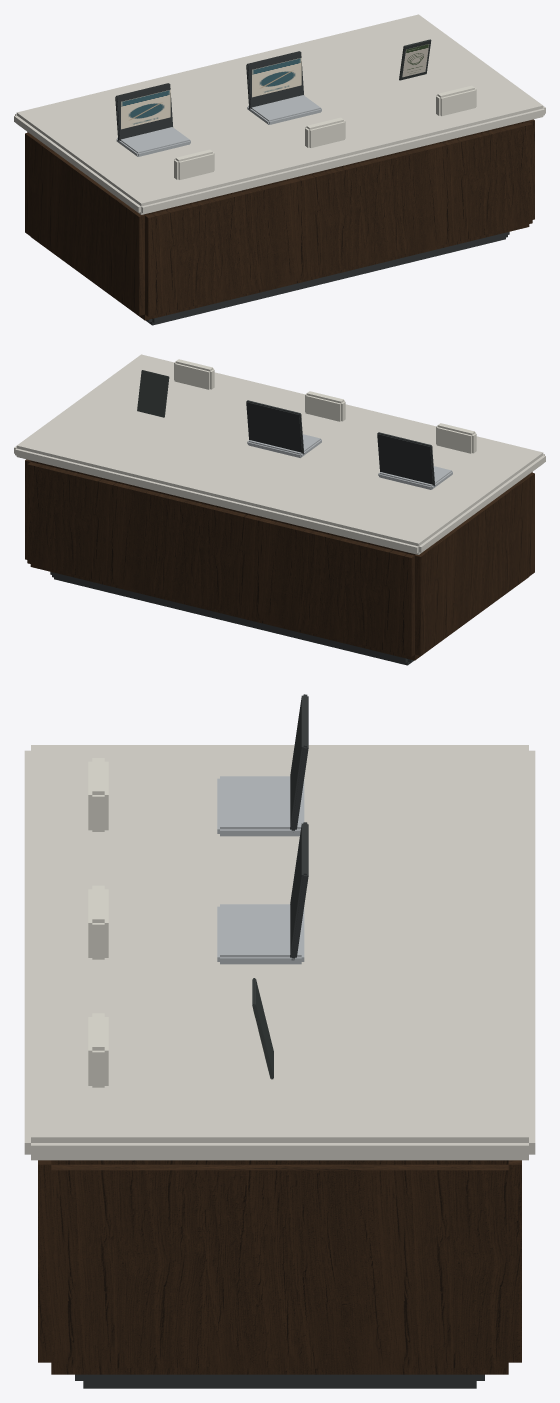
Rendered from computer_experience_v293.glb.
3 renders of one model, top to bottom at view 1: azimuth 30°, elevation 25°; view 2: azimuth 150°, elevation 25°; view 3: azimuth 270°, elevation 25°, orthographic. The views are drawn at different scales.
Visible parts, largest first — view 1: computer_experience_v293_CC0_Smoked_walnut, computer_experience_v293_Honed_solid_surface, computer_experience_v293_Paper_page_edges, computer_experience_v293_Anodised_graphite, computer_experience_v293_FY21_original_packaging, computer_experience_v293_FY21_original_packaging.001, computer_experience_v293_Brushed_stainless.001, computer_experience_v293_Brushed_stainless.002, computer_experience_v293_Anodised_graphite.003, computer_experience_v293_Anodised_graphite.002, computer_experience_v293_V23_original_editorial.001, computer_experience_v293_V23_ceramic_graphite.002; view 2: computer_experience_v293_CC0_Smoked_walnut, computer_experience_v293_Honed_solid_surface, computer_experience_v293_Paper_page_edges, computer_experience_v293_Anodised_graphite, computer_experience_v293_Anodised_graphite.002, computer_experience_v293_Anodised_graphite.003, computer_experience_v293_V23_ceramic_graphite.002, computer_experience_v293_Brushed_stainless.001, computer_experience_v293_Brushed_stainless.002; view 3: computer_experience_v293_Honed_solid_surface, computer_experience_v293_CC0_Smoked_walnut, computer_experience_v293_Anodised_graphite, computer_experience_v293_Brushed_stainless.002, computer_experience_v293_Brushed_stainless.001, computer_experience_v293_Paper_page_edges, computer_experience_v293_Anodised_graphite.003, computer_experience_v293_Anodised_graphite.002, computer_experience_v293_V23_ceramic_graphite.002.
Boxes of the visible parts, bbox=[...] form: computer_experience_v293_CC0_Smoked_walnut: bbox=[25, 119, 534, 320]; computer_experience_v293_Honed_solid_surface: bbox=[14, 14, 545, 214]; computer_experience_v293_Paper_page_edges: bbox=[174, 85, 476, 179]; computer_experience_v293_Anodised_graphite: bbox=[146, 232, 509, 325]; computer_experience_v293_FY21_original_packaging: bbox=[121, 89, 170, 129]; computer_experience_v293_FY21_original_packaging.001: bbox=[252, 58, 301, 97]; computer_experience_v293_Brushed_stainless.001: bbox=[116, 127, 190, 156]; computer_experience_v293_Brushed_stainless.002: bbox=[247, 95, 321, 124]; computer_experience_v293_Anodised_graphite.003: bbox=[246, 51, 303, 109]; computer_experience_v293_Anodised_graphite.002: bbox=[115, 83, 172, 141]; computer_experience_v293_V23_original_editorial.001: bbox=[402, 44, 429, 77]; computer_experience_v293_V23_ceramic_graphite.002: bbox=[399, 39, 431, 80]; computer_experience_v293_CC0_Smoked_walnut: bbox=[25, 459, 534, 660]; computer_experience_v293_Honed_solid_surface: bbox=[14, 354, 545, 554]; computer_experience_v293_Paper_page_edges: bbox=[174, 359, 476, 453]; computer_experience_v293_Anodised_graphite: bbox=[50, 572, 413, 665]; computer_experience_v293_Anodised_graphite.002: bbox=[377, 432, 435, 486]; computer_experience_v293_Anodised_graphite.003: bbox=[246, 400, 304, 454]; computer_experience_v293_V23_ceramic_graphite.002: bbox=[137, 370, 169, 417]; computer_experience_v293_Brushed_stainless.001: bbox=[378, 466, 452, 489]; computer_experience_v293_Brushed_stainless.002: bbox=[247, 434, 321, 457]; computer_experience_v293_Honed_solid_surface: bbox=[24, 745, 535, 1160]; computer_experience_v293_CC0_Smoked_walnut: bbox=[38, 1160, 521, 1374]; computer_experience_v293_Anodised_graphite: bbox=[75, 1374, 484, 1388]; computer_experience_v293_Brushed_stainless.002: bbox=[217, 904, 304, 964]; computer_experience_v293_Brushed_stainless.001: bbox=[217, 776, 304, 836]; computer_experience_v293_Paper_page_edges: bbox=[88, 758, 108, 1087]; computer_experience_v293_Anodised_graphite.003: bbox=[290, 822, 308, 960]; computer_experience_v293_Anodised_graphite.002: bbox=[290, 694, 308, 830]; computer_experience_v293_V23_ceramic_graphite.002: bbox=[252, 978, 273, 1079].
Size of the model in its own units: 2.8 by 1.21 by 1.52.
12 materials, 4 textured.
